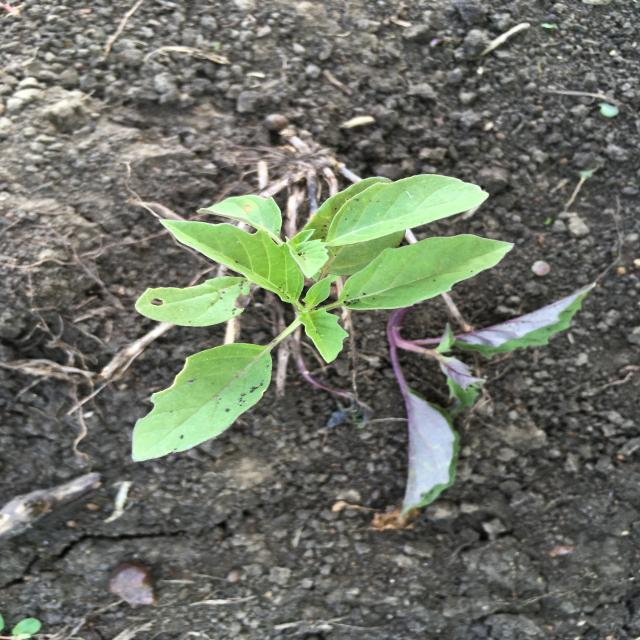CutleafGroundcherry: (129, 171, 516, 463)
